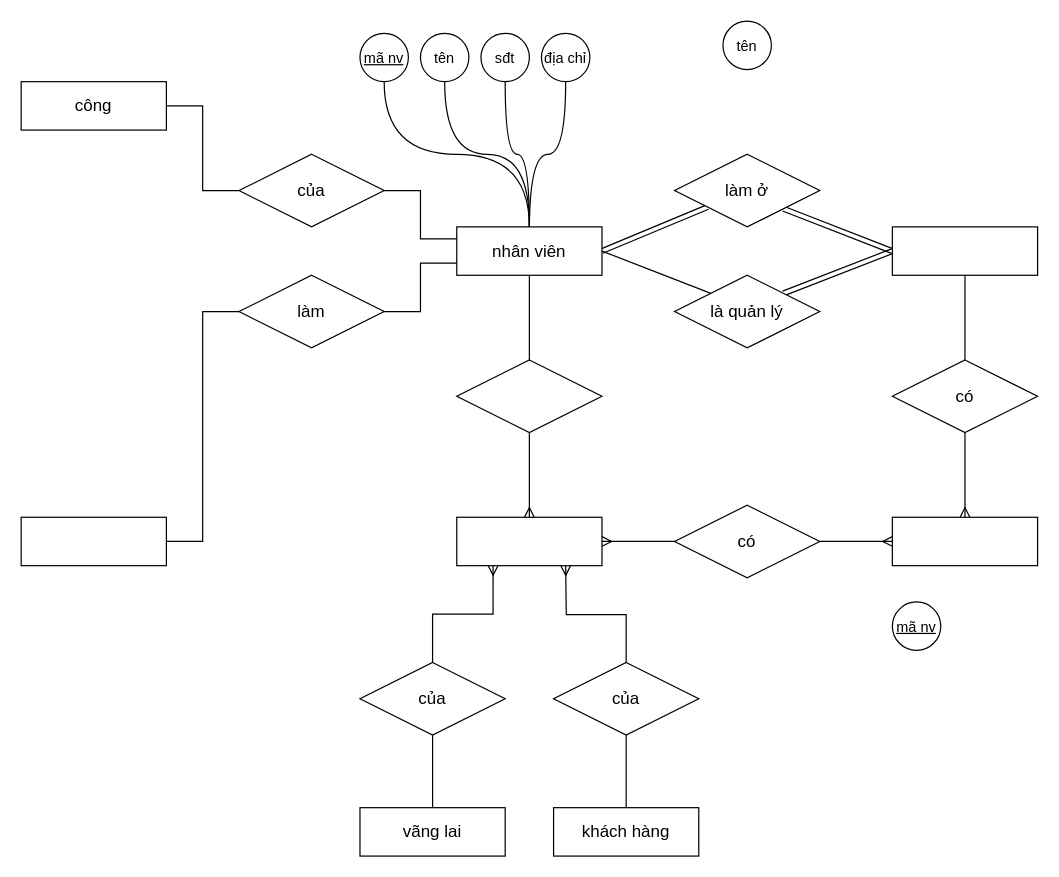
The diagram is 1059 pixels wide and 877 high, and some of its shapes have lost their labels. The shapes that lost their labels are listed below. From the top down, each one's centre as x and y in pixels, then its label:
point 964,250: chi nhánh
point 529,396: phụ trách
point 93,541: công việc
point 529,541: đơn hàng
point 964,541: sản phẩm giá
